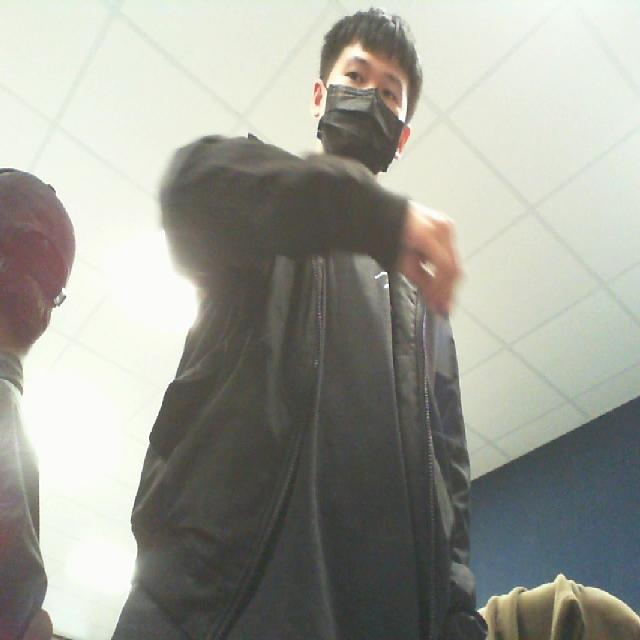Pen: (407, 272, 477, 490)
